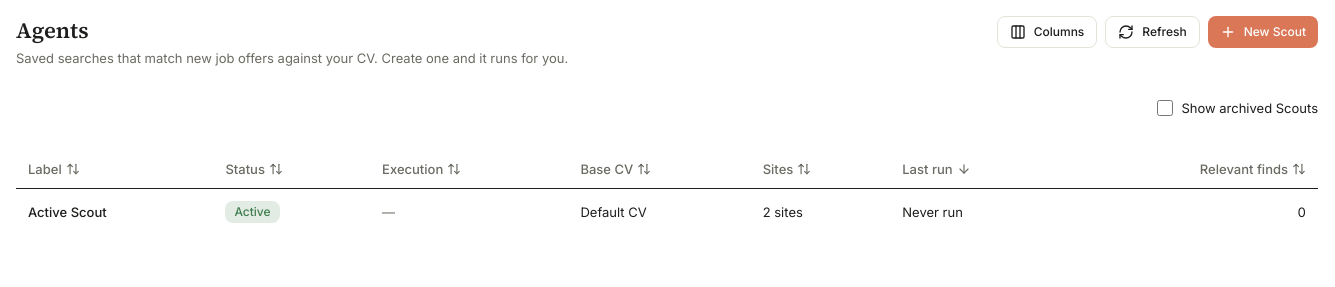
Test case: ScoutsPage — list › reveals Archived Scouts via the show-archived toggle, and re-hides them when unchecked
Expected: the text "Active Scout" is shown, x1=16 y1=189 x2=213 y2=235
Expected: the text "Old Scout" is not shown
Click the checkbox labelled "Show archived Scouts". click: point(1165, 108)
box: x1=1157 y1=100 x2=1173 y2=116
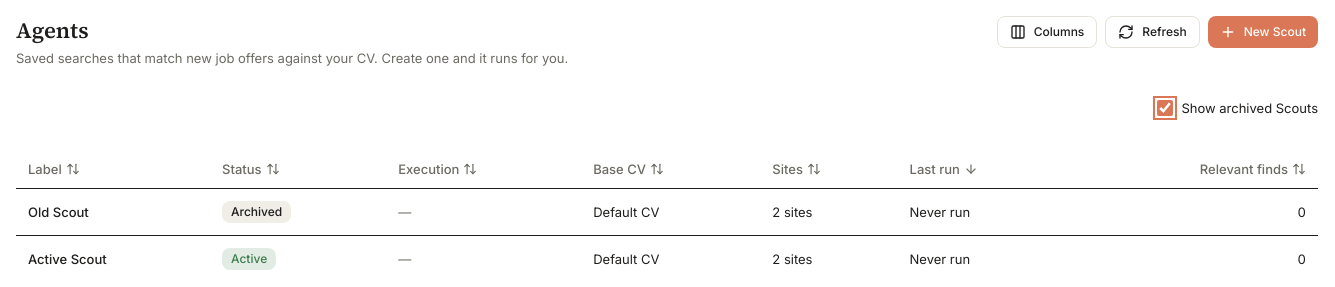
Result: the text "Old Scout" is shown at x1=16 y1=189 x2=210 y2=236
Click the checkbox labelled "Show archived Scouts". click: point(1165, 108)
box: x1=1157 y1=100 x2=1173 y2=116
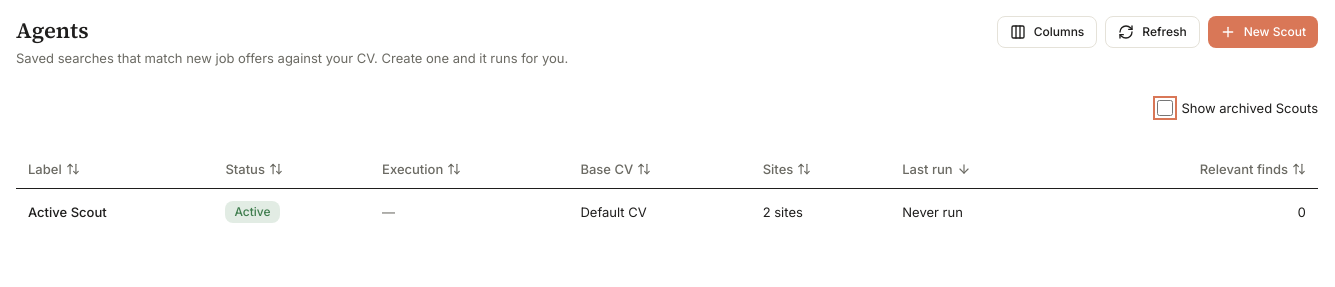
Result: the text "Old Scout" is gone
